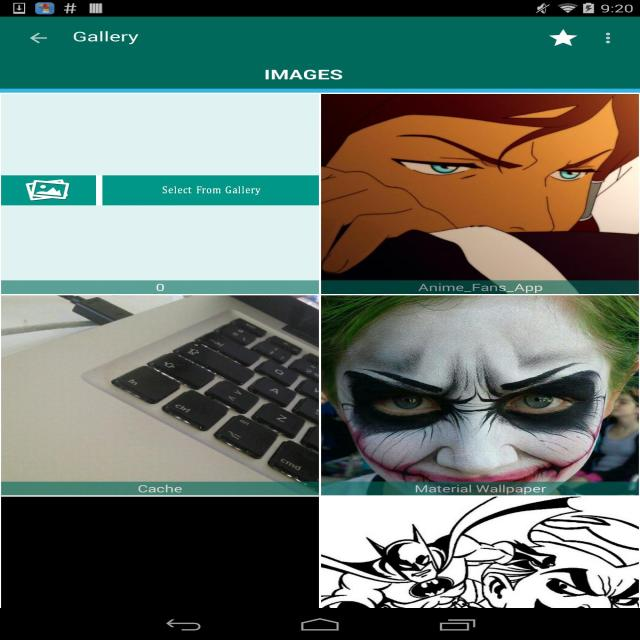button: (552, 28, 579, 48), (27, 29, 53, 46), (600, 29, 616, 46)
heading: (256, 65, 349, 85), (72, 29, 142, 46)
image: (319, 93, 640, 295), (0, 92, 318, 294), (0, 295, 319, 495), (322, 296, 639, 494), (0, 496, 317, 611)
text: (411, 483, 551, 495), (414, 282, 545, 294), (133, 482, 189, 496), (149, 279, 171, 294)
